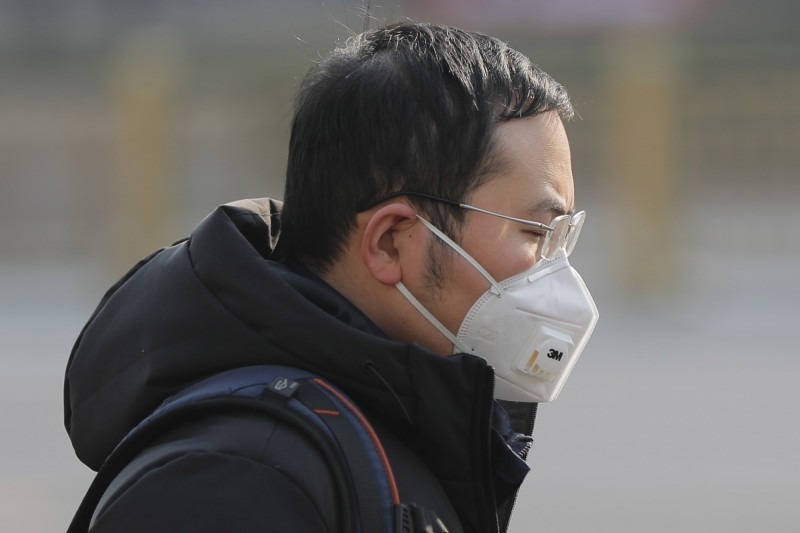Mask: (414, 103, 610, 417)
